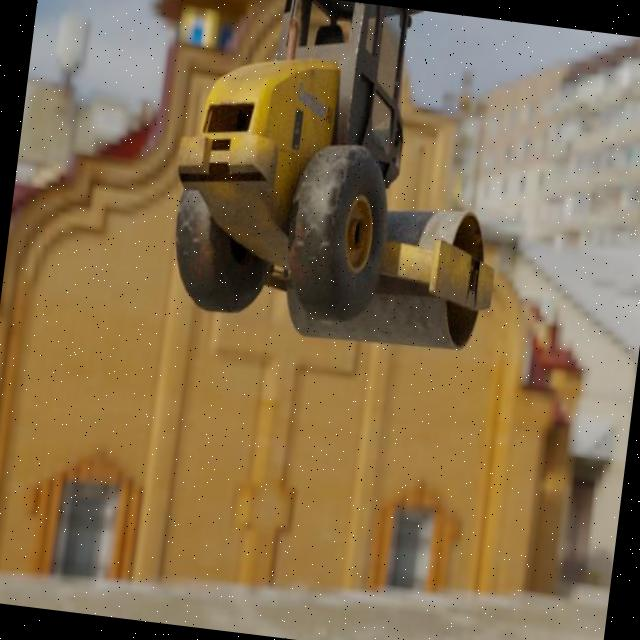Roller: (157, 0, 524, 360)
